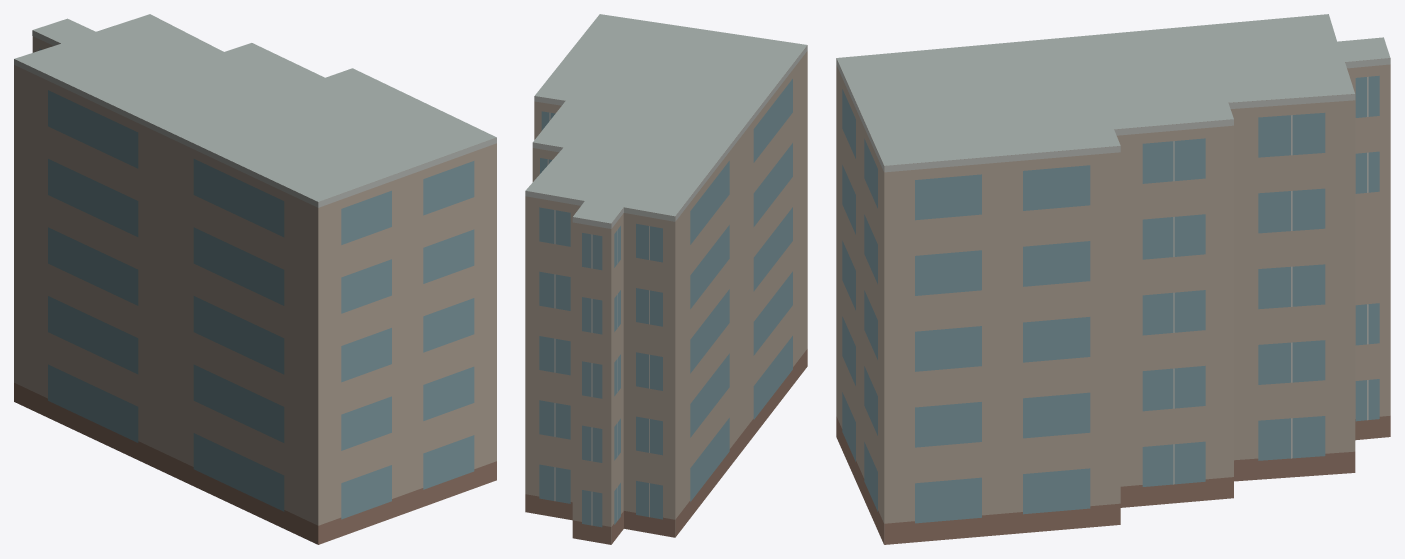
Rendered from survey-upis-32776784.glb.
3 renders of one model, left to right at view 1: azimuth 30°, elevation 25°; view 2: azimuth 150°, elevation 25°; view 3: azimuth 270°, elevation 25°, orthographic. The views are drawn at different scales.
Parts seen in each view (by area): view 1: survey-upis-32776784.tmp; view 2: survey-upis-32776784.tmp; view 3: survey-upis-32776784.tmp.
Boxes of the visible parts, x1,y1,x2,y2 form: survey-upis-32776784.tmp: (14,14,496,544); survey-upis-32776784.tmp: (525,14,807,544); survey-upis-32776784.tmp: (836,14,1390,544).
Bounding box in the file's own units: 12.22 × 14.2 × 18.83.
